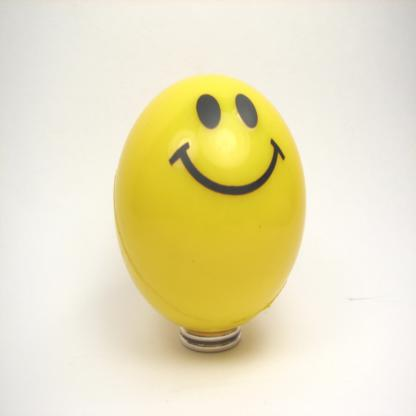Ball: (112, 76, 307, 332)
